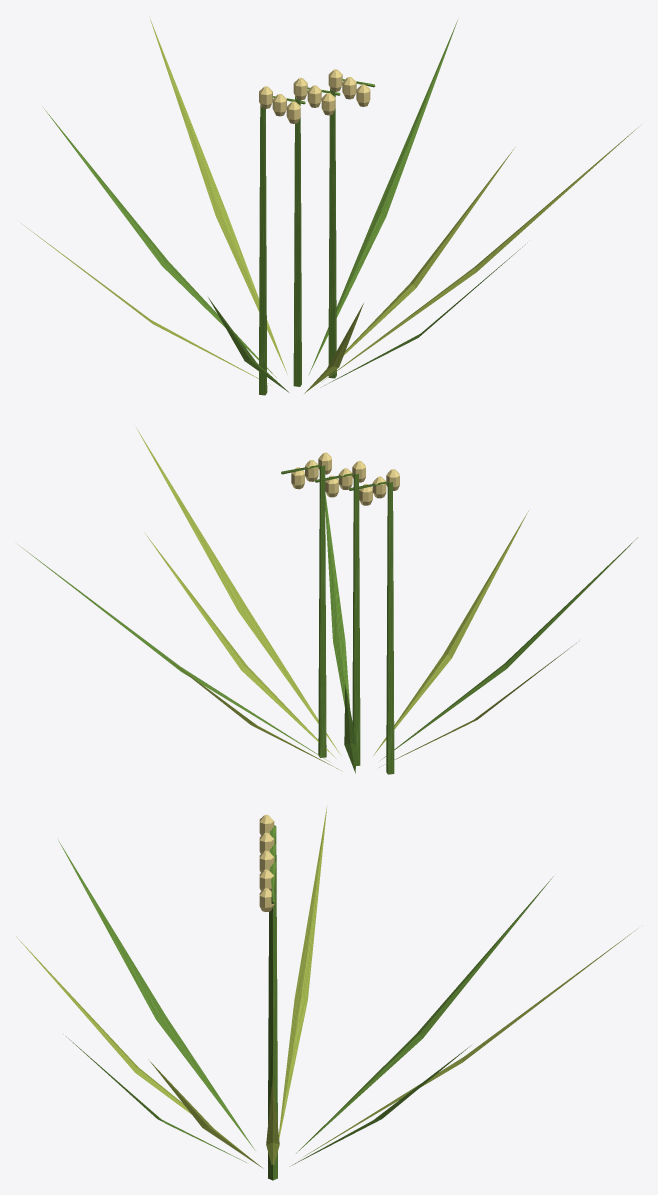
The model's file is crop-rice-ready.glb.
The picture shows the model from 3 angles, top to bottom: view 1: azimuth 30°, elevation 25°; view 2: azimuth 150°, elevation 25°; view 3: azimuth 270°, elevation 25°; orthographic projection. The views are drawn at different scales.
Parts seen in each view (by area): view 1: crop-rice-ready; view 2: crop-rice-ready; view 3: crop-rice-ready.
Part boxes in pixels (bbox=[...]): crop-rice-ready: bbox=[21, 18, 641, 395]; crop-rice-ready: bbox=[19, 427, 637, 774]; crop-rice-ready: bbox=[16, 805, 636, 1180].
Size of the model in its own units: 1.57 by 0.847 by 1.48.
1 material, 1 textured.
